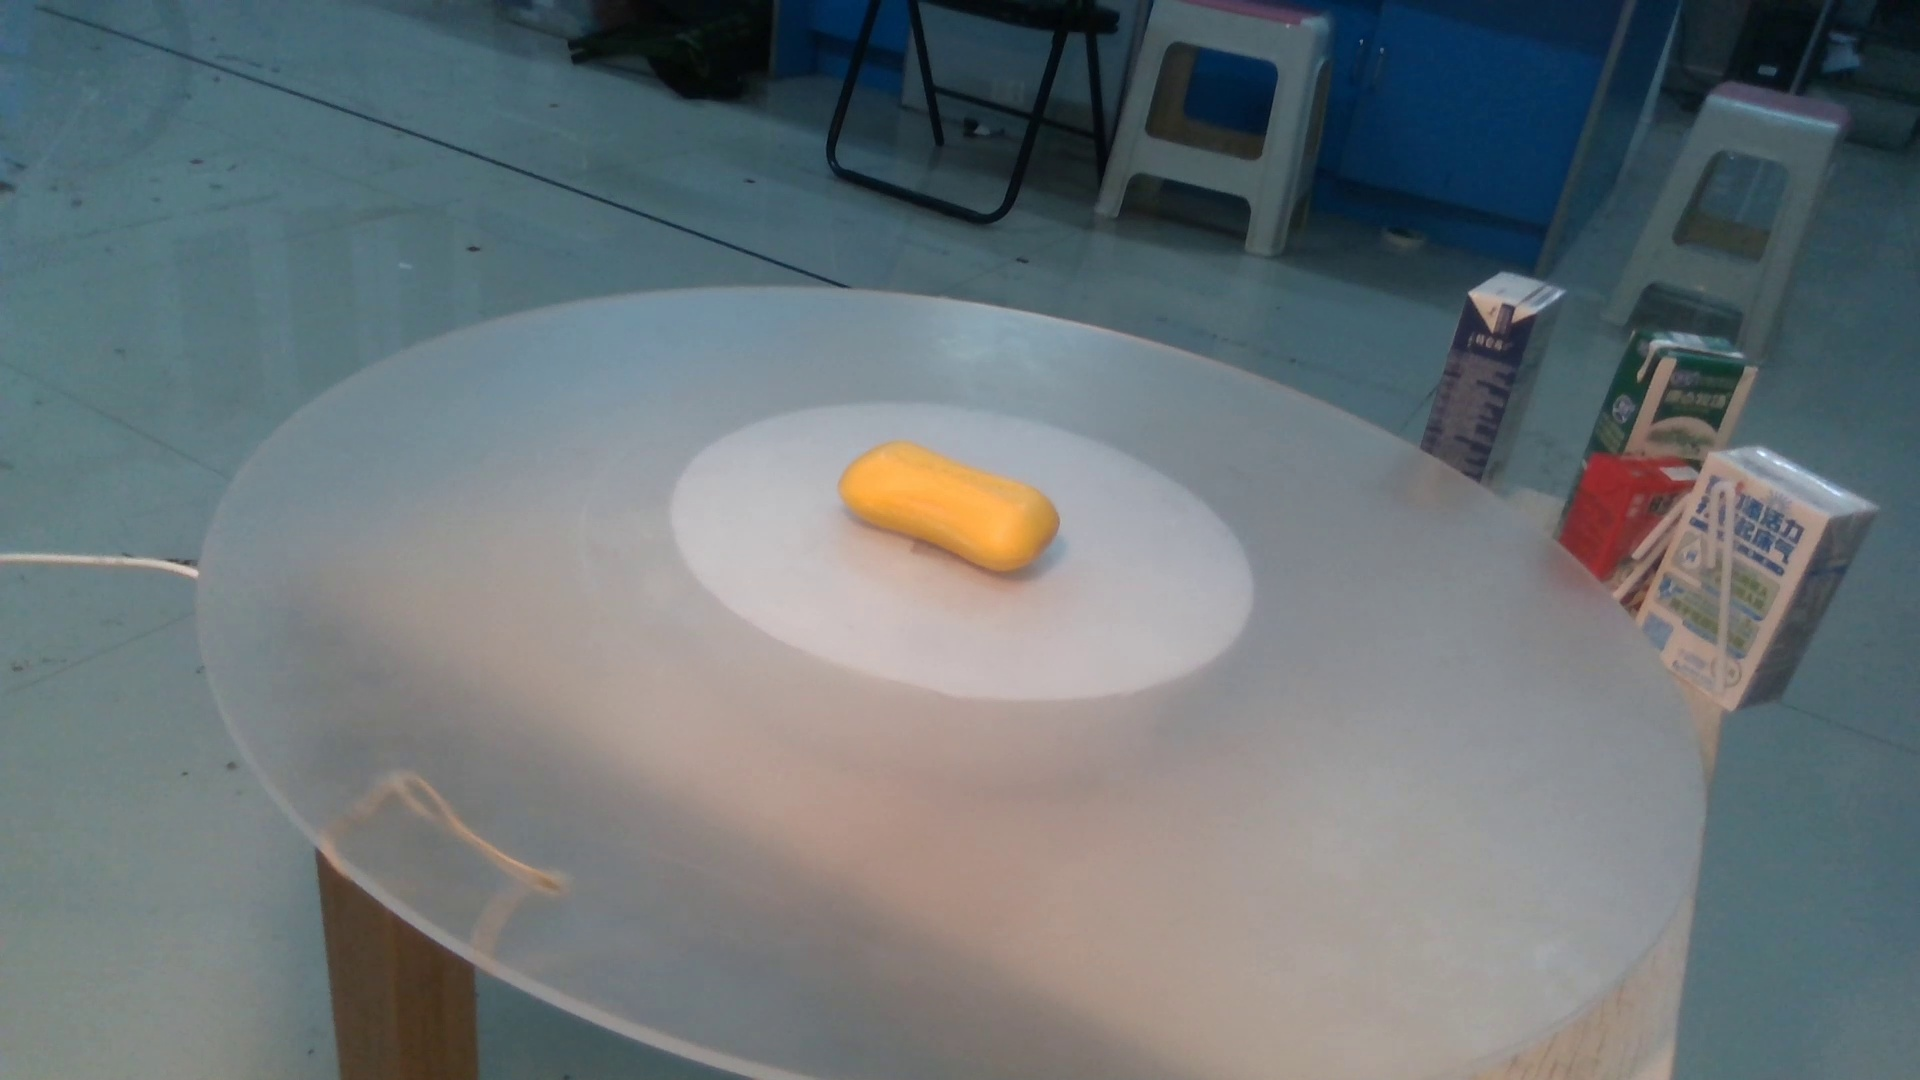CA003_1: (829, 425, 1069, 599)
